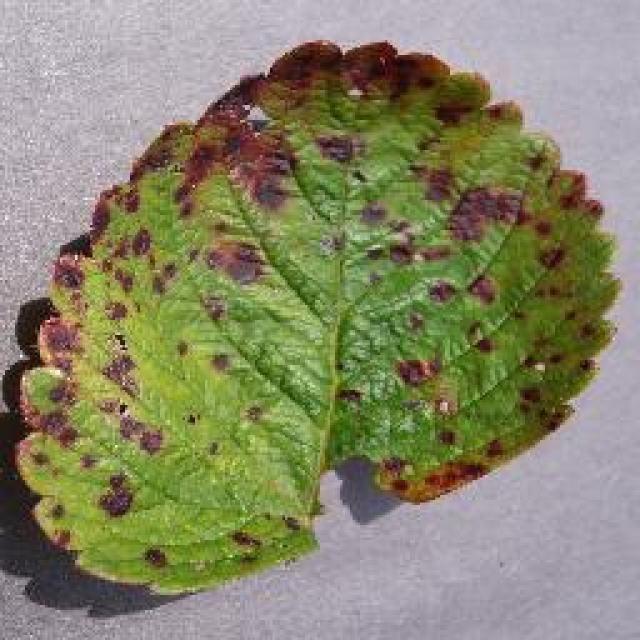Strawberry leaf scorch: (133, 135, 572, 423)
